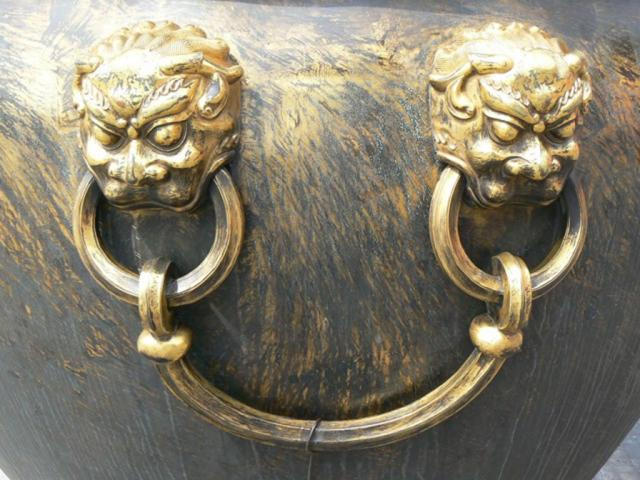Door-handle: (65, 16, 593, 457)
